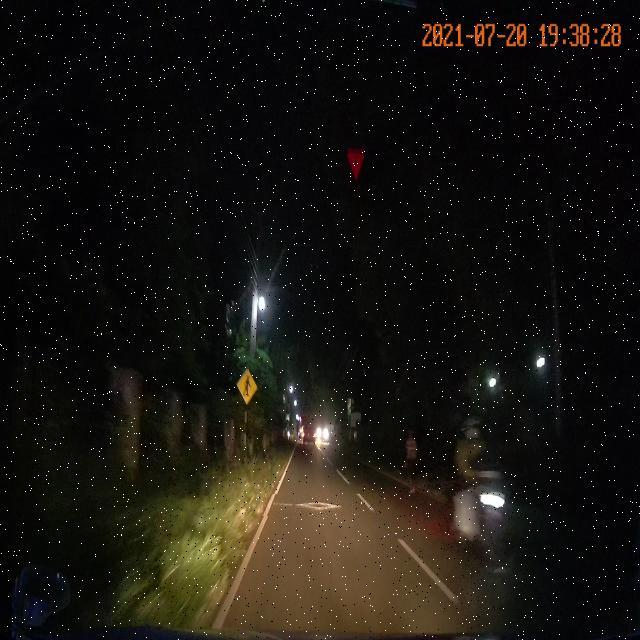diamond: (263, 494, 380, 516)
